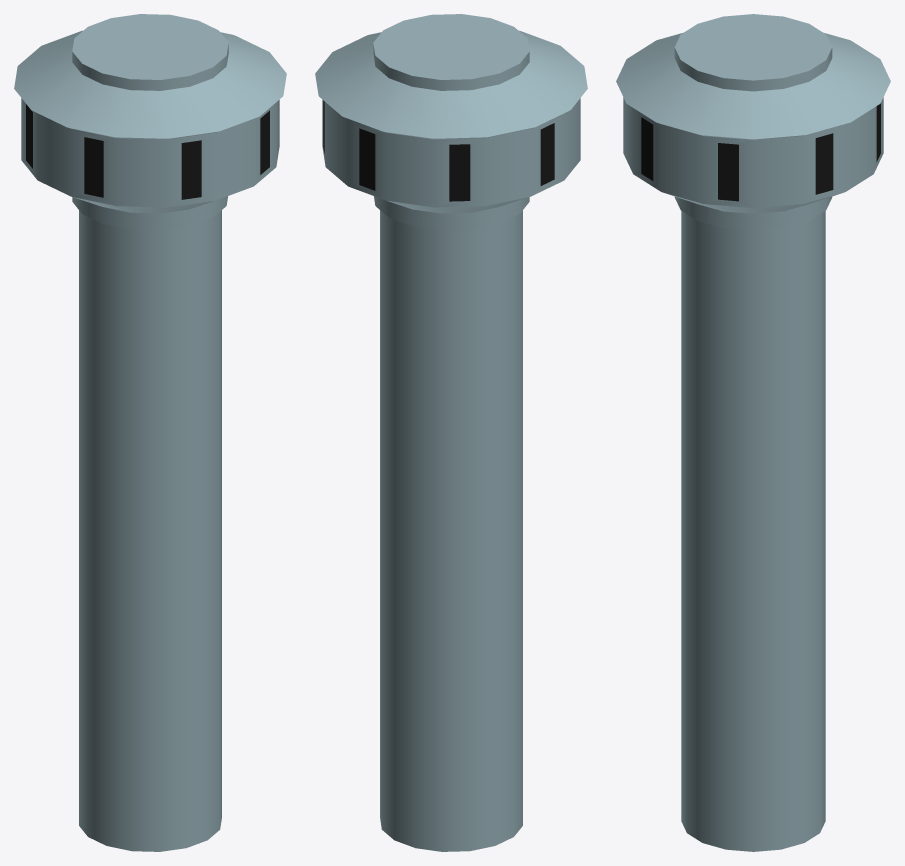
File: chimenea_4.fbx
3 renders of one model, left to right at view 1: azimuth 30°, elevation 25°; view 2: azimuth 150°, elevation 25°; view 3: azimuth 270°, elevation 25°, orthographic.
Visible parts, largest first — view 1: chimenea_4; view 2: chimenea_4; view 3: chimenea_4.
Boxes of the visible parts, bbox=[...] form: chimenea_4: bbox=[14, 14, 286, 851]; chimenea_4: bbox=[315, 14, 587, 851]; chimenea_4: bbox=[616, 14, 890, 851].
Size of the model in its own units: 48.85 by 152 by 48.85.
